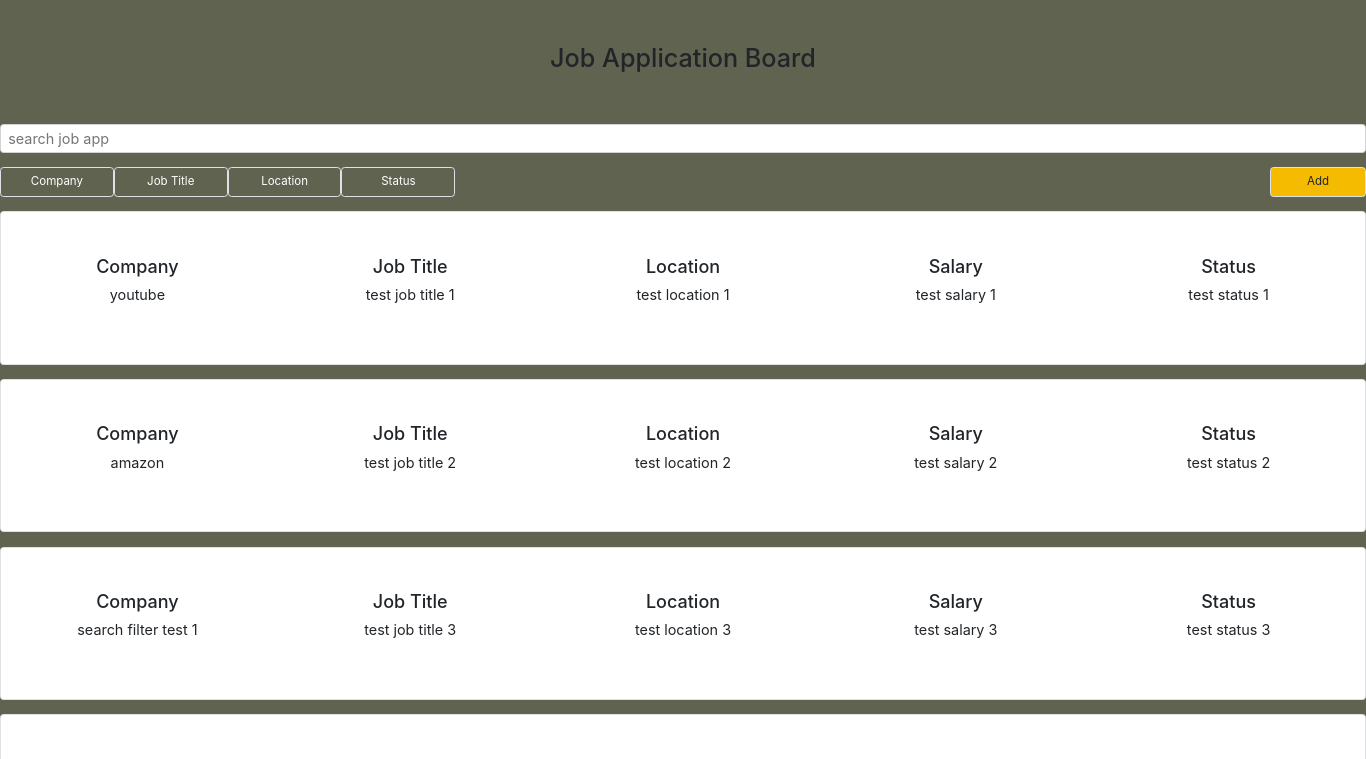
Scenario: job app search input field › should filter job applications according to what was typed into the input field
The image size is (1366, 759).
Type "search filter test" into the field with test id "search" at (683, 138), box [0,124,1365,153]
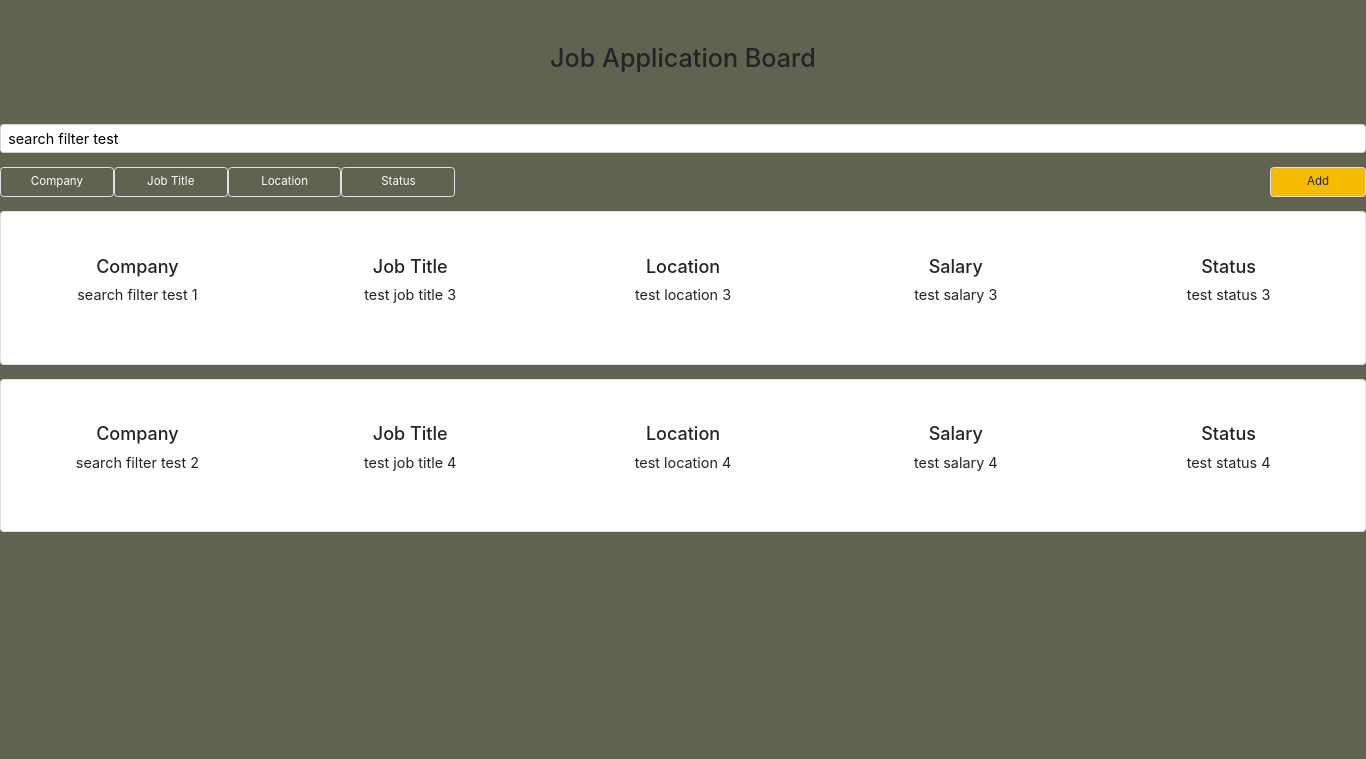
Check: the number of elements with test id "company-name" is 2, box [77,286,198,303]; [76,454,199,471]
Check: the text with test id "company-name" reads "search filter test 1", box [77,286,198,303]
Check: the text with test id "company-name" reads "search filter test 2", box [76,454,199,471]
